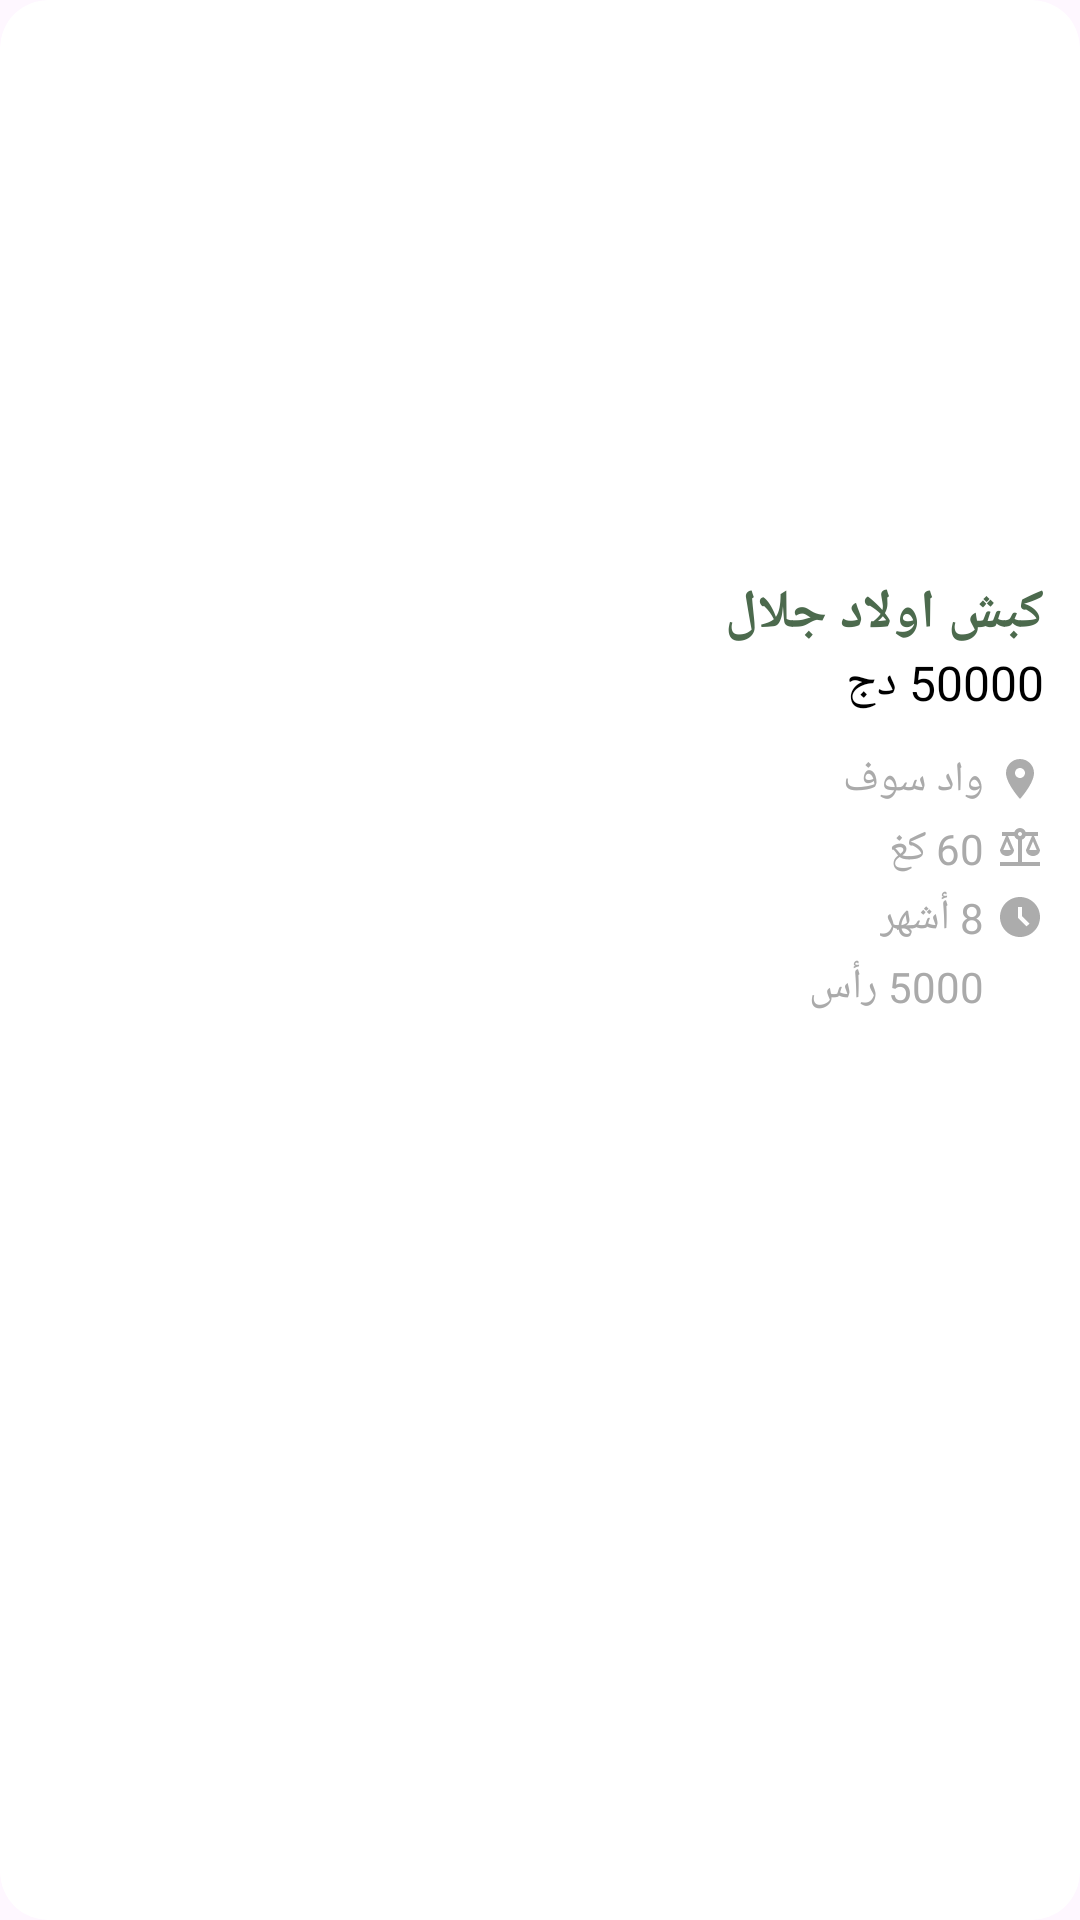

Icon click points for this 1080×1920 phone screenshot, format point (x, y):
age: point (1020, 917)
location: point (1020, 779)
weight: point (1020, 847)
